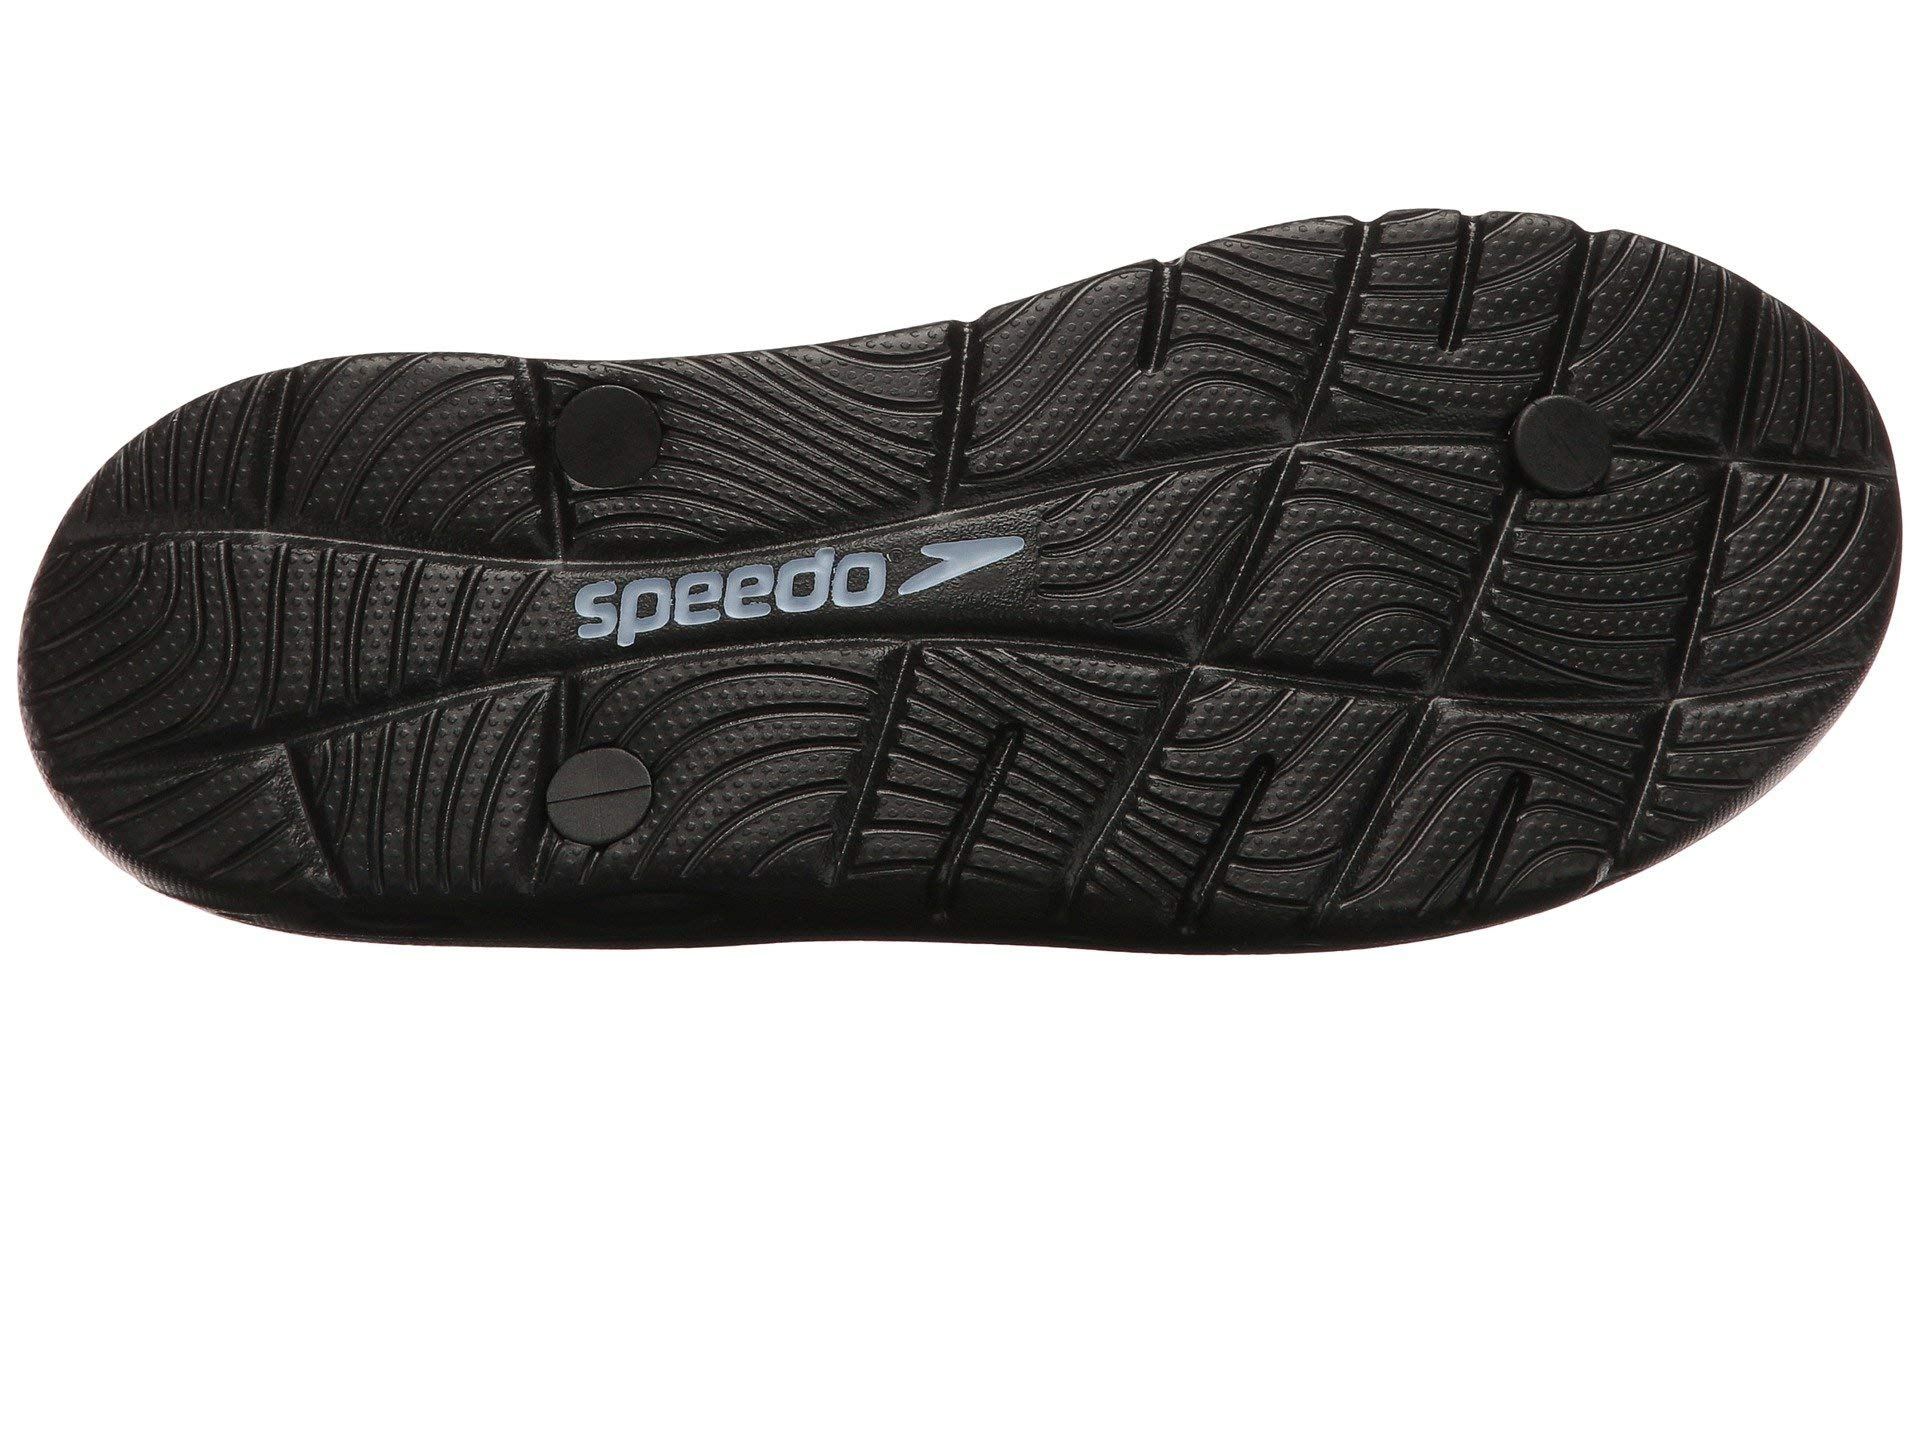circle: (1140, 265, 1723, 824), (104, 452, 497, 871)
line: (1140, 265, 1723, 824), (104, 452, 497, 871)
